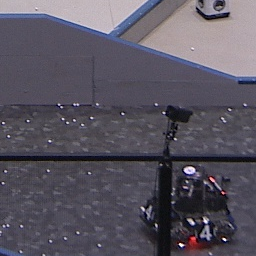Dead: (194, 224, 218, 241), (143, 200, 155, 223)
Robot: (139, 164, 237, 247)
